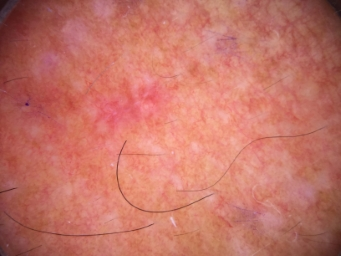melanoma: (90, 79, 168, 142), (231, 207, 265, 234), (278, 222, 312, 246), (217, 31, 243, 57), (64, 18, 87, 41), (37, 53, 57, 77), (15, 95, 34, 114)
